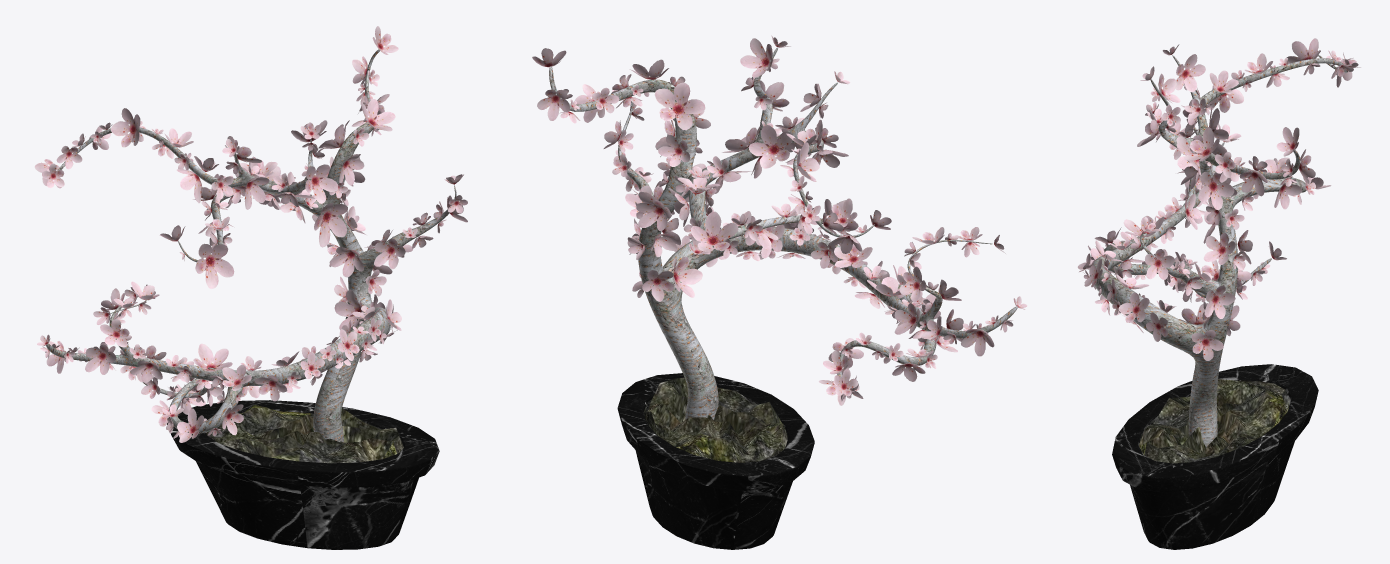
Rendered from cherry_blossom_bonsai_tree.glb.
3 renders of one model, left to right at view 1: azimuth 30°, elevation 25°; view 2: azimuth 150°, elevation 25°; view 3: azimuth 270°, elevation 25°, orthographic. The views are drawn at different scales.
Parts seen in each view (by area): view 1: pot1, tree_base, pPlane50, pPlane41, pPlane44, pPlane33, pPlane35, pPlane25, pPlane148, pPlane34, pPlane24, pPlane69; view 2: pot1, tree_base, pPlane159, pPlane31, pPlane32, pPlane48, pPlane69, pPlane27, pPlane36, pPlane42; view 3: pot1, tree_base, pPlane28, pPlane40, pPlane120, pPlane26, pPlane34, pPlane58, pPlane38, pPlane13, pPlane33, pPlane45 (+8 smaller).
Boxes of the visible parts, <box> form: pot1: <box>167,400,439,549</box>; tree_base: <box>46,49,456,442</box>; pPlane50: <box>195,243,234,288</box>; pPlane41: <box>314,203,347,247</box>; pPlane44: <box>305,164,338,203</box>; pPlane33: <box>110,108,140,147</box>; pPlane35: <box>193,343,232,371</box>; pPlane25: <box>374,239,405,269</box>; pPlane148: <box>329,246,363,277</box>; pPlane34: <box>361,99,395,131</box>; pPlane24: <box>85,344,116,374</box>; pPlane69: <box>334,289,362,330</box>; pot1: <box>617,373,814,549</box>; tree_base: <box>549,47,1017,419</box>; pPlane159: <box>654,82,705,130</box>; pPlane31: <box>748,125,792,168</box>; pPlane32: <box>690,211,738,251</box>; pPlane48: <box>740,38,773,77</box>; pPlane69: <box>673,256,702,297</box>; pPlane27: <box>636,200,671,230</box>; pPlane36: <box>642,270,673,301</box>; pPlane42: <box>537,89,569,120</box>; pot1: <box>1112,364,1318,549</box>; tree_base: <box>1090,54,1347,447</box>; pPlane28: <box>1198,171,1234,210</box>; pPlane40: <box>1175,54,1205,92</box>; pPlane120: <box>1203,233,1235,264</box>; pPlane26: <box>1204,285,1235,318</box>; pPlane34: <box>1184,127,1219,161</box>; pPlane58: <box>1191,330,1223,360</box>; pPlane38: <box>1145,249,1174,279</box>; pPlane13: <box>1118,292,1149,322</box>; pPlane33: <box>1286,38,1320,63</box>; pPlane45: <box>1239,170,1267,196</box>.
Size of the model in its own units: 15.68 by 16.13 by 9.86.
Materials: 5 (5 with a texture image).
